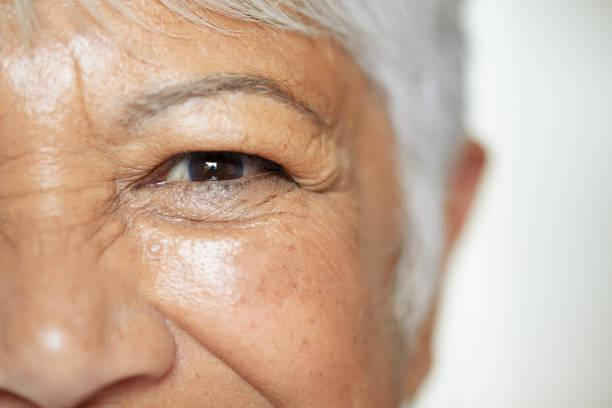Dry-Skin: (176, 208, 368, 374), (0, 104, 122, 330)
